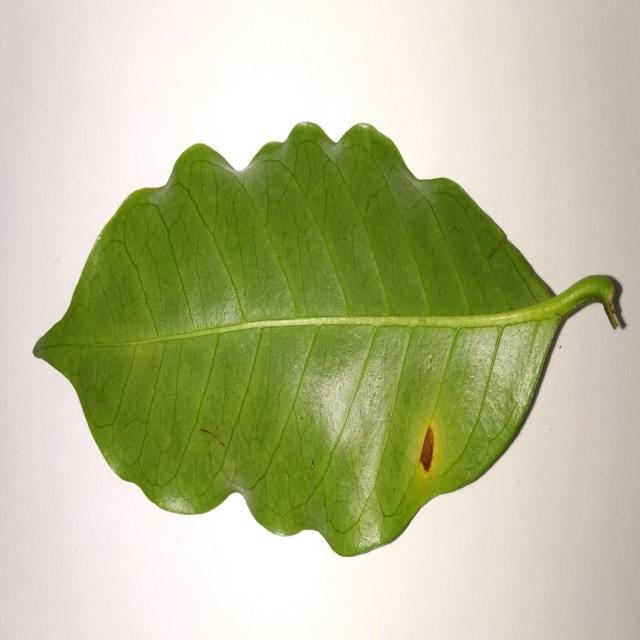Enfermedad-Mancha-de-hierro: (31, 123, 626, 561)
